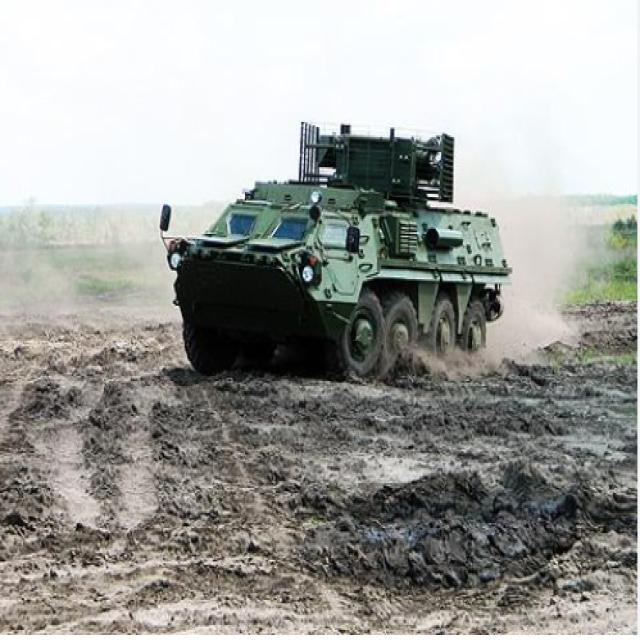MIL_APC: (149, 79, 541, 388)
